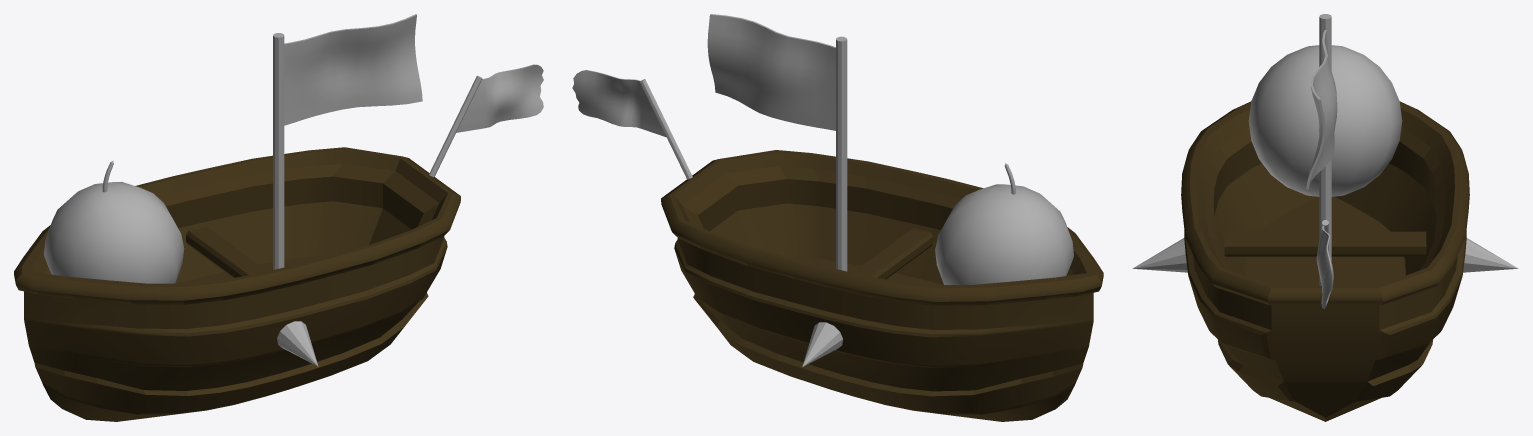
Rendered from ZombieEnemy.fbx.
3 renders of one model, left to right at view 1: azimuth 30°, elevation 25°; view 2: azimuth 150°, elevation 25°; view 3: azimuth 270°, elevation 25°, orthographic. The views are drawn at different scales.
Parts seen in each view (by area): view 1: pCube4, pCylinder5; view 2: pCube4, pCylinder5; view 3: pCube4, pCylinder5.
Part boxes in pixels (x1,y1,x2,y2): pCube4: (14, 147, 460, 421); pCylinder5: (44, 14, 543, 366); pCube4: (661, 150, 1103, 421); pCylinder5: (572, 14, 1073, 366); pCube4: (1181, 101, 1469, 421); pCylinder5: (1132, 14, 1518, 308).
Bounding box in the file's own units: 3.87 × 2.45 × 2.24.
